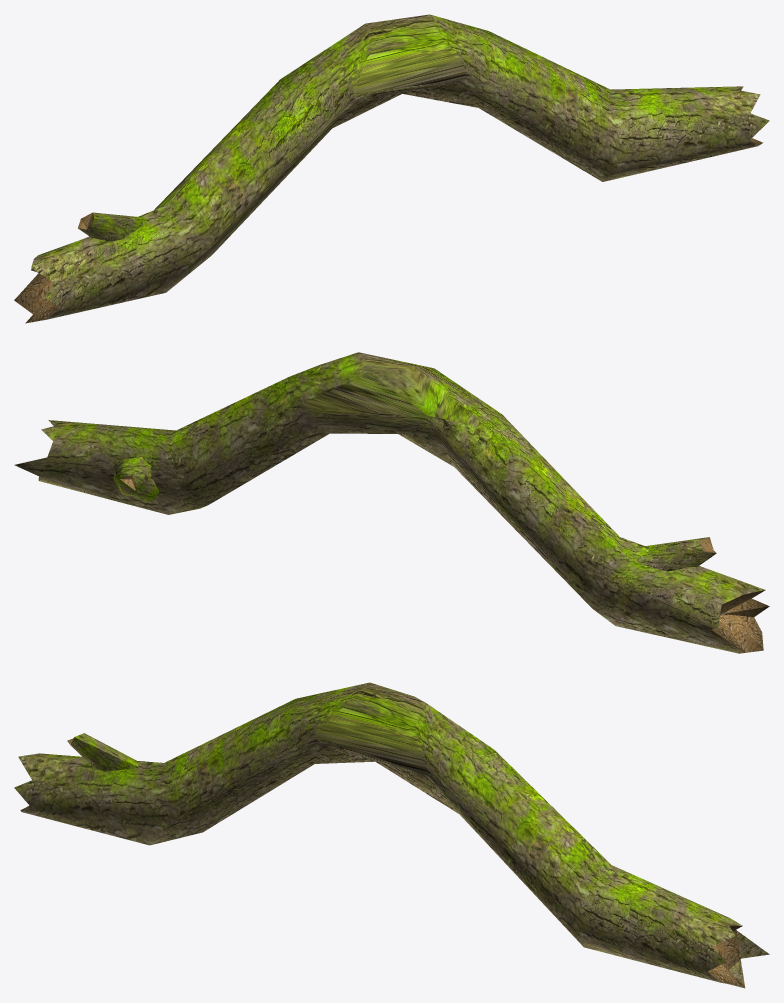
The model's file is sb_obj_ruins010_log03_col.fbx.
The picture shows the model from 3 angles, top to bottom: view 1: azimuth 30°, elevation 25°; view 2: azimuth 150°, elevation 25°; view 3: azimuth 330°, elevation 25°; orthographic projection.
Visible parts, largest first — view 1: sb_obj_ruins010_log03_col; view 2: sb_obj_ruins010_log03_col; view 3: sb_obj_ruins010_log03_col.
Part boxes in pixels (<box>): sb_obj_ruins010_log03_col: <box>14,14,769,323</box>; sb_obj_ruins010_log03_col: <box>14,352,769,653</box>; sb_obj_ruins010_log03_col: <box>14,682,769,988</box>.
Size of the model in its own units: 8.45 by 2.32 by 0.8159.
